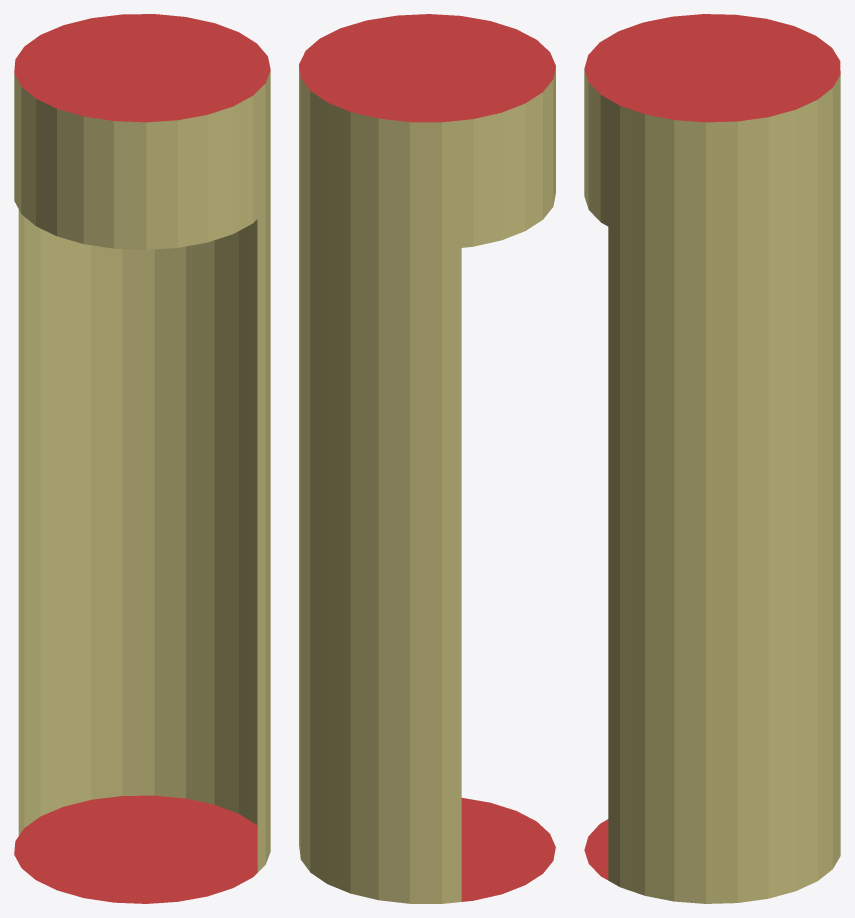
3 views of the same model, side by side, from view 1: azimuth 30°, elevation 25°; view 2: azimuth 150°, elevation 25°; view 3: azimuth 270°, elevation 25° (orthographic).
Size of the model in its own units: 2.62 by 2.62 by 8.81.
